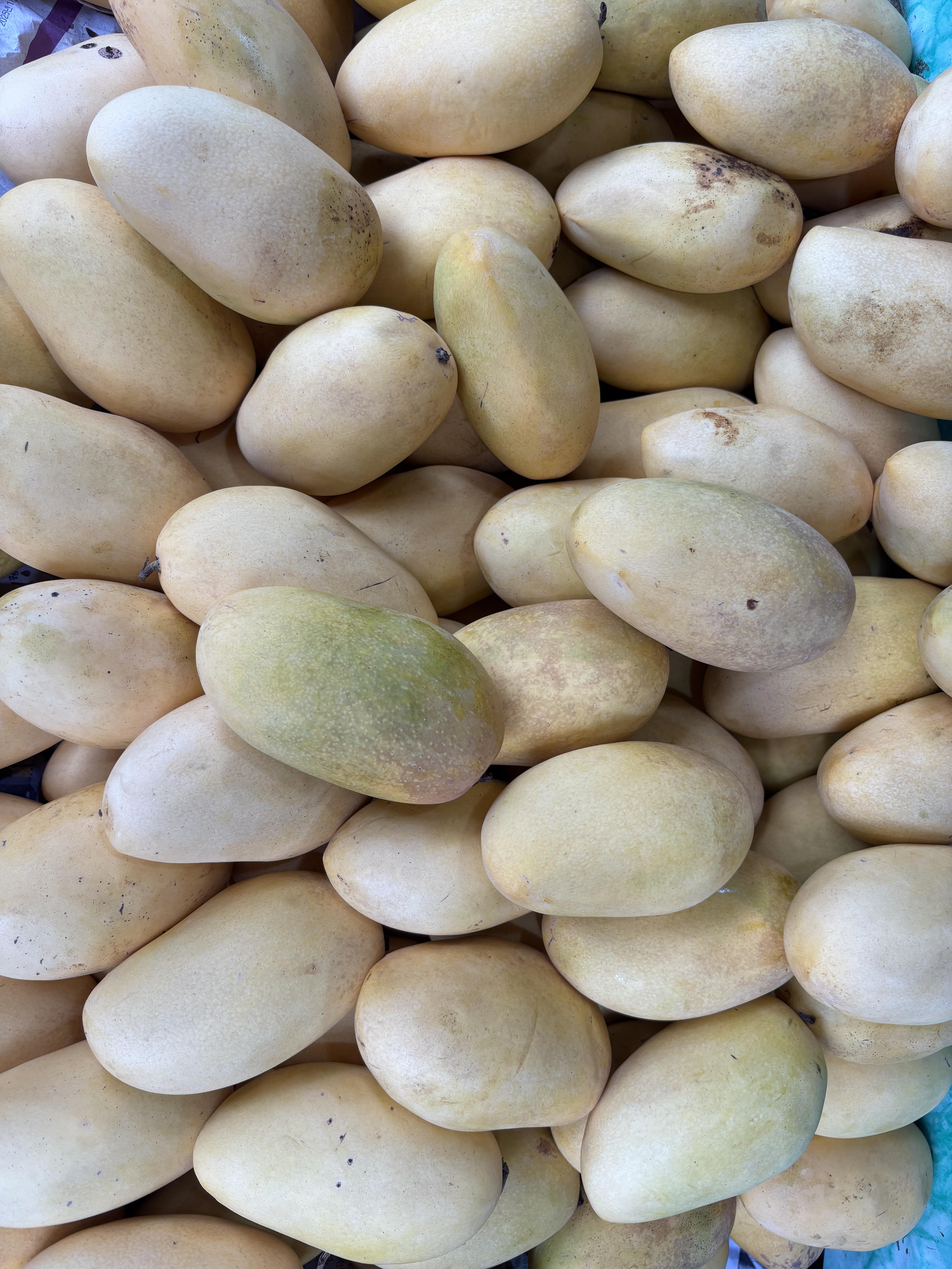mango: (87, 86, 382, 324), (196, 587, 504, 804), (565, 478, 855, 672), (482, 742, 753, 917), (236, 306, 457, 498), (434, 226, 599, 479), (154, 486, 437, 625)
occluded: (84, 871, 384, 1094), (0, 179, 255, 432), (192, 1063, 503, 1263), (581, 996, 826, 1223), (356, 936, 610, 1131), (0, 785, 231, 980), (102, 697, 367, 863), (542, 853, 798, 1022), (0, 1041, 231, 1228), (0, 385, 210, 589), (336, 0, 602, 158), (112, 0, 350, 169), (670, 19, 916, 182), (703, 577, 939, 739), (555, 142, 802, 293), (454, 597, 668, 766), (0, 579, 202, 749), (360, 157, 560, 319), (789, 221, 952, 419), (324, 780, 528, 936), (641, 405, 873, 542), (784, 844, 952, 1026), (376, 1128, 580, 1269), (755, 328, 939, 482), (326, 465, 512, 617), (565, 266, 769, 393), (741, 1124, 932, 1251), (0, 34, 153, 184), (474, 476, 631, 607), (818, 692, 952, 845), (628, 692, 764, 824), (565, 387, 749, 479), (595, 0, 766, 98), (774, 978, 952, 1065), (27, 1214, 300, 1269), (529, 1198, 736, 1269), (0, 274, 94, 407), (752, 775, 865, 885), (816, 1048, 952, 1138), (872, 441, 952, 588), (766, 0, 912, 65), (0, 976, 96, 1072), (895, 68, 952, 228), (161, 416, 274, 490), (406, 396, 508, 474), (0, 1208, 124, 1269), (800, 194, 952, 242), (732, 732, 843, 793), (731, 1198, 822, 1269), (279, 0, 354, 81), (42, 740, 122, 801), (0, 700, 60, 768), (917, 585, 952, 696), (755, 252, 795, 325), (550, 1115, 588, 1172), (0, 793, 36, 829)
